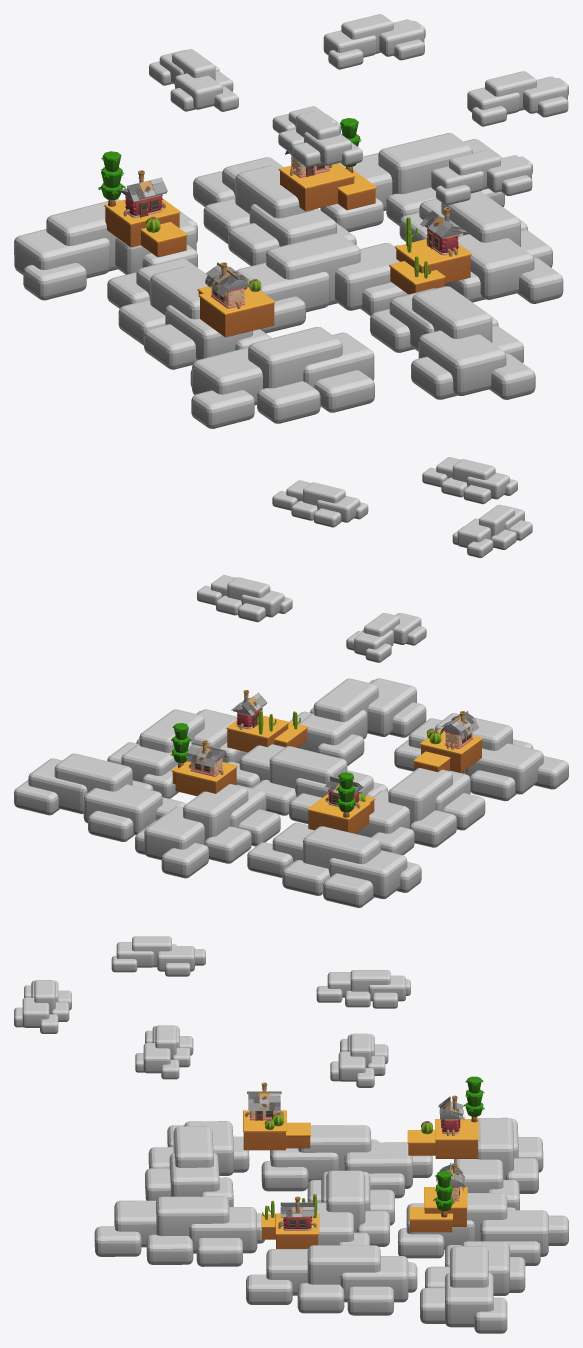
3 views of the same model, one above another, from view 1: azimuth 30°, elevation 25°; view 2: azimuth 150°, elevation 25°; view 3: azimuth 270°, elevation 25° (orthographic). The views are drawn at different scales.
Visible parts, largest first — view 1: Cube.019, Cube.015, Cube.005, Cube.008, Cube.009, Cube.006, Cube.012, Cube.007, spw_build_house_03.001, Cube, Cube.002, Cube.004 (+10 smaller); view 2: Cube.012, Cube.007, Cube.006, Cube.009, Cube.015, Cube.019, Cube.005, Cube.008, spw_build_house_03.001, Cube.002, Cube, Cube.004 (+10 smaller); view 3: Cube.008, Cube.015, Cube.007, Cube.009, Cube.019, Cube.006, Cube.005, Cube.012, Cube.001, Cube.003, spw_build_house_03.001, Cube (+12 smaller).
Part boxes in pixels (x1,y1,x2,y2): Cube.019: [190, 327, 374, 428]; Cube.015: [370, 286, 535, 399]; Cube.005: [235, 233, 407, 333]; Cube.008: [399, 191, 563, 303]; Cube.009: [107, 258, 271, 369]; Cube.006: [193, 157, 356, 265]; Cube.012: [14, 199, 197, 300]; Cube.007: [320, 133, 504, 232]; spw_build_house_03.001: [389, 207, 471, 294]; Cube: [323, 14, 425, 69]; Cube.002: [467, 71, 568, 126]; Cube.004: [431, 150, 532, 205]; Cube.012: [247, 822, 421, 907]; Cube.007: [14, 753, 185, 841]; Cube.006: [135, 784, 280, 878]; Cube.009: [355, 768, 485, 855]; Cube.015: [289, 678, 426, 765]; Cube.019: [394, 713, 568, 801]; Cube.005: [227, 744, 388, 823]; Cube.008: [107, 709, 247, 798]; spw_build_house_03.001: [226, 690, 308, 752]; Cube.002: [272, 480, 368, 527]; Cube: [197, 575, 292, 622]; Cube.004: [422, 457, 517, 504]; Cube.008: [246, 1245, 417, 1315]; Cube.015: [94, 1196, 264, 1266]; Cube.007: [420, 1241, 525, 1333]; Cube.009: [261, 1125, 432, 1198]; Cube.019: [145, 1121, 249, 1206]; Cube.006: [398, 1193, 568, 1265]; Cube.005: [307, 1170, 394, 1246]; Cube.012: [454, 1117, 543, 1210]; Cube.001: [316, 970, 410, 1008]; Cube.003: [111, 936, 205, 976]; spw_build_house_03.001: [261, 1194, 319, 1248]; Cube: [330, 1033, 388, 1087].
Bounding box in the file's own units: 64.24 × 38.01 × 78.37.
